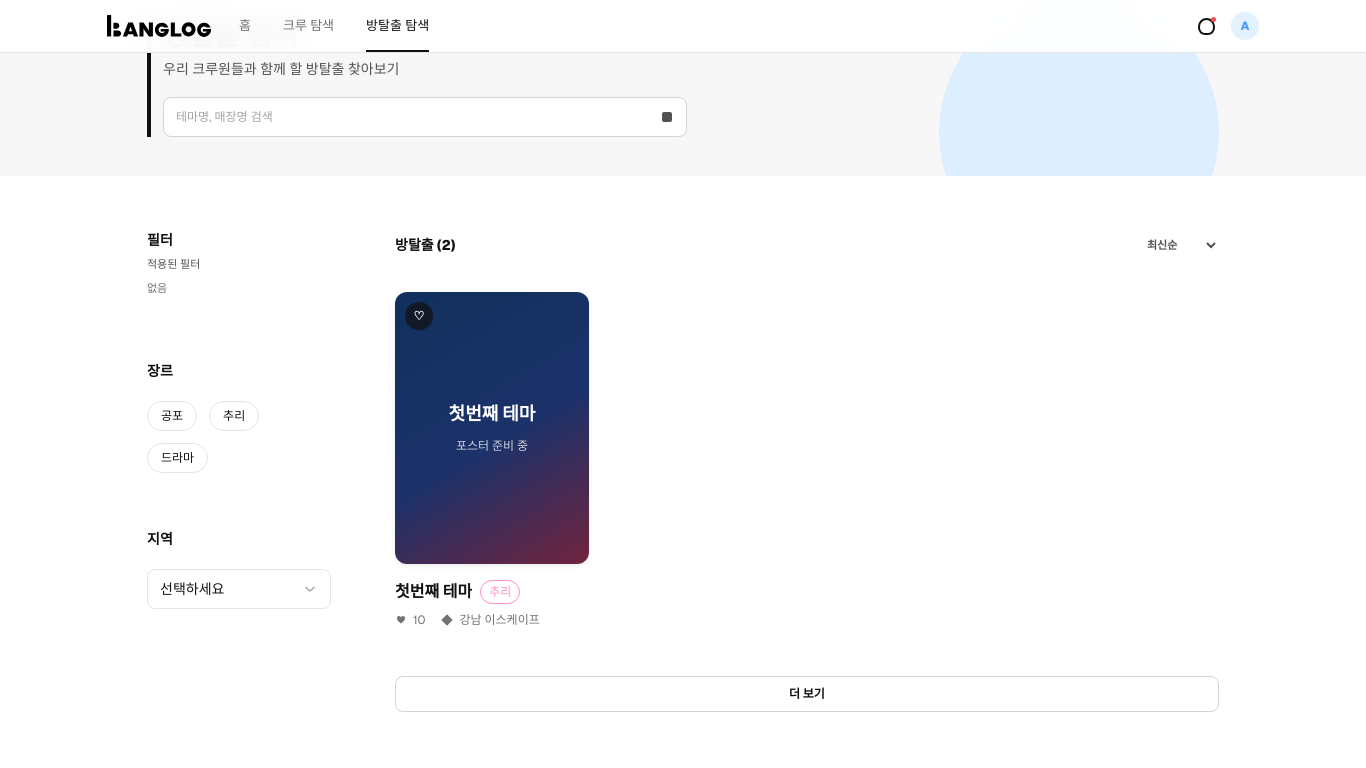
Test: ExplorePage › loads the next page when the more button is clicked
The image size is (1366, 768).
(page scrolled)
Expected: the link with aria-label "첫번째 테마 상세 보기" is shown, [449,402,535,454]
Click the button "더 보기": (807, 694) [395,676,1219,712]
(page scrolled)
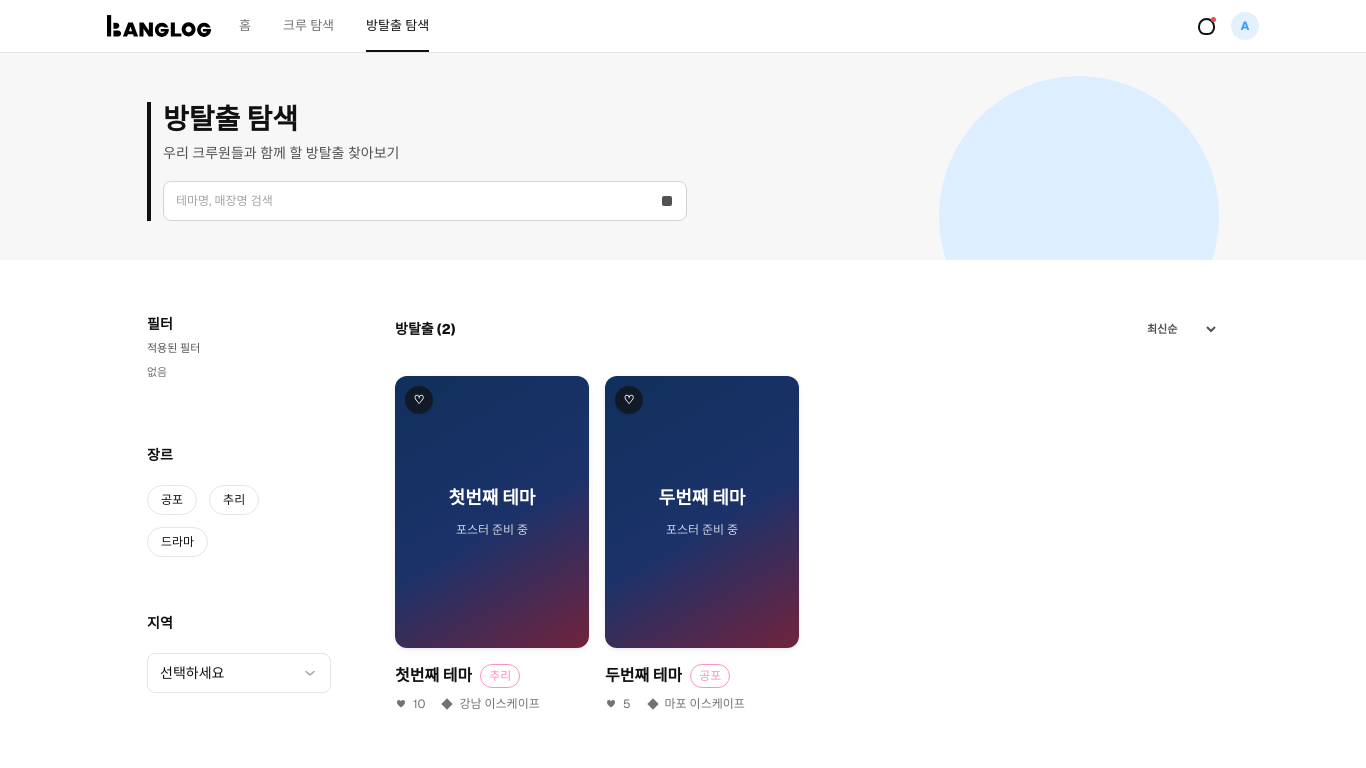
Result: the link with aria-label "두번째 테마 상세 보기" is shown at [659,486,745,538]
